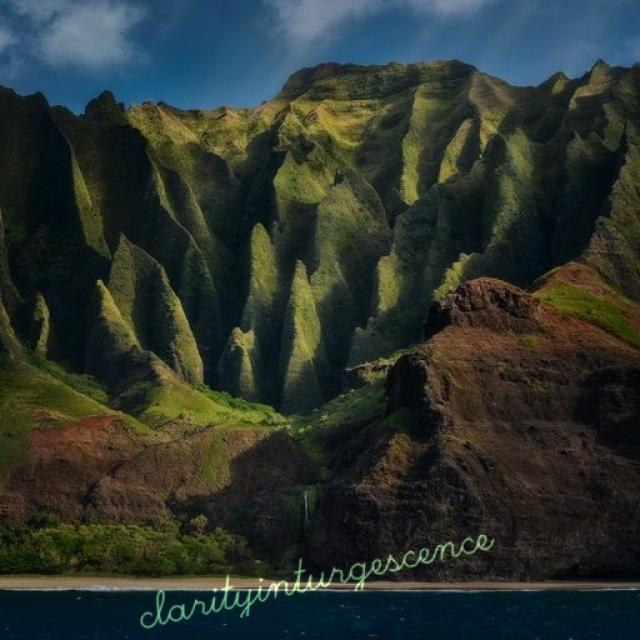watermark: (131, 511, 495, 636)
